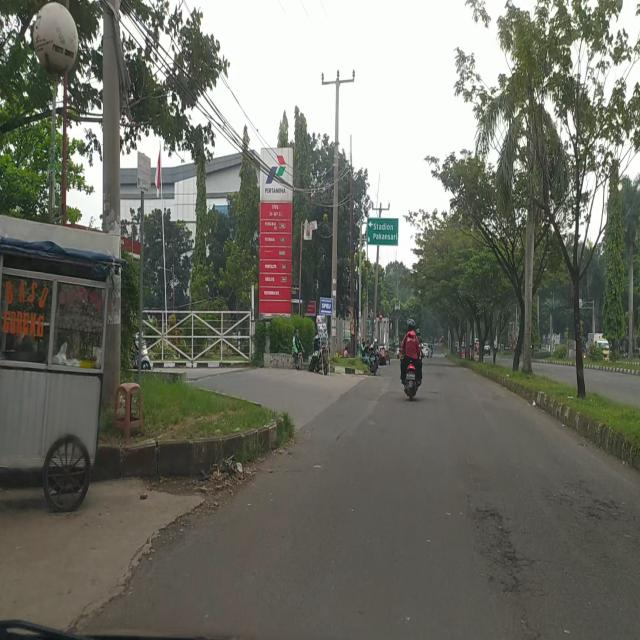Drain Hole: (471, 506, 547, 598), (550, 477, 639, 553)
